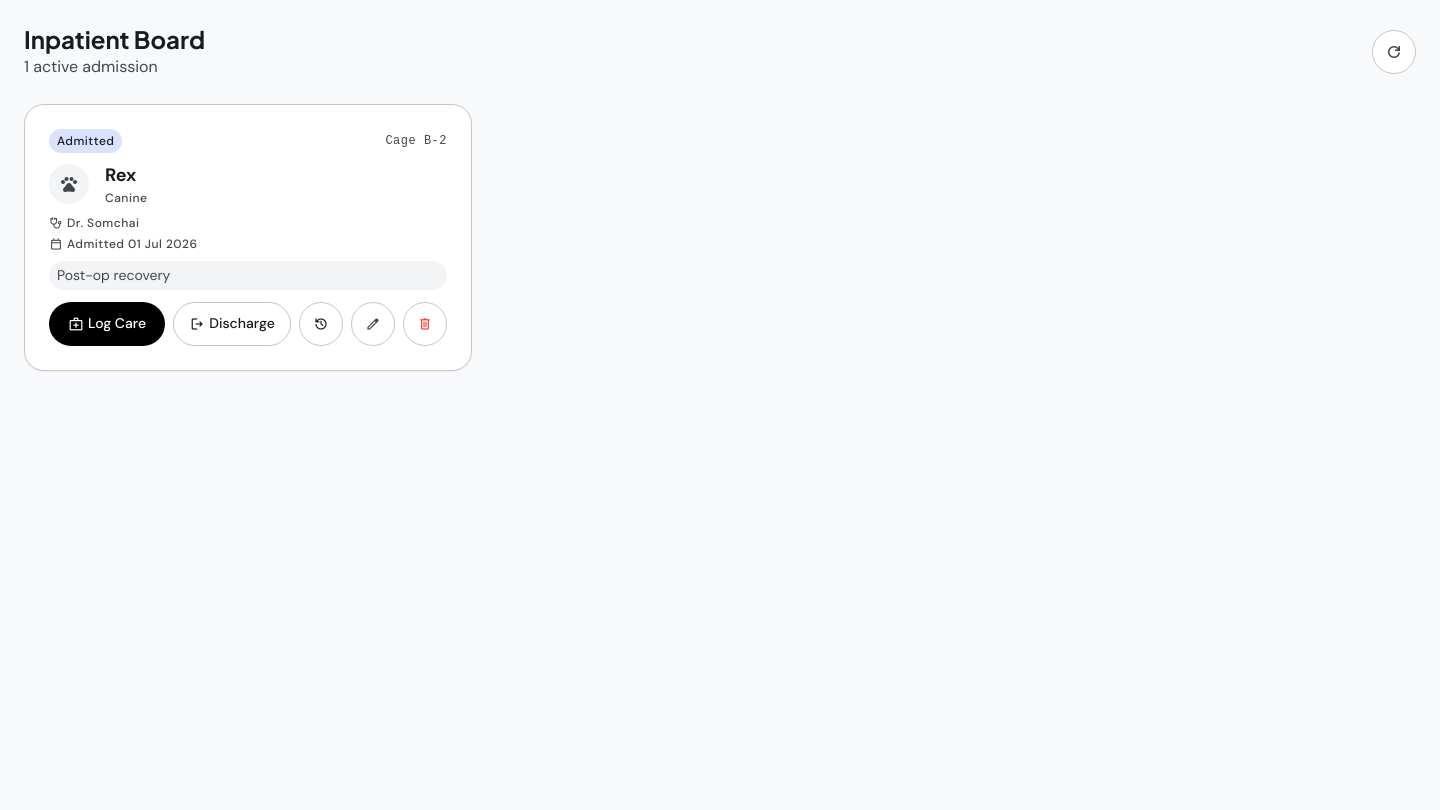
Test: ClinicInpatient — Care History modal (LCV-1) › history button renders on the card and opens the modal showing the pet name
Expected: the text "Rex" is shown, [105, 163, 136, 187]
Step 1. Click the button named "View care history" → (321,324), box [299, 302, 343, 346]
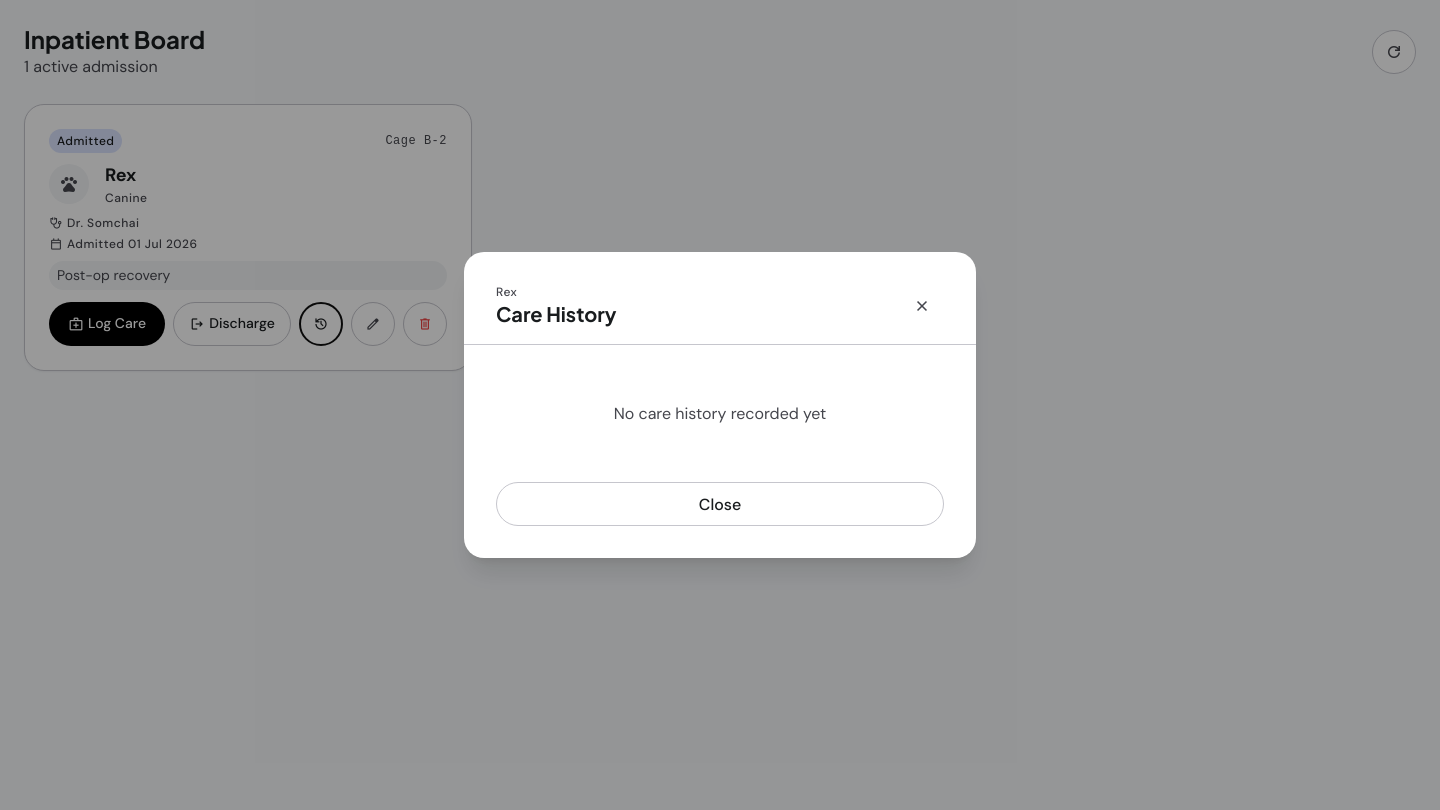
Expected: the text "Rex" below "Cage B-2" is shown, [105, 163, 136, 187]
Result: the text "Care History" is shown at [496, 301, 616, 327]
